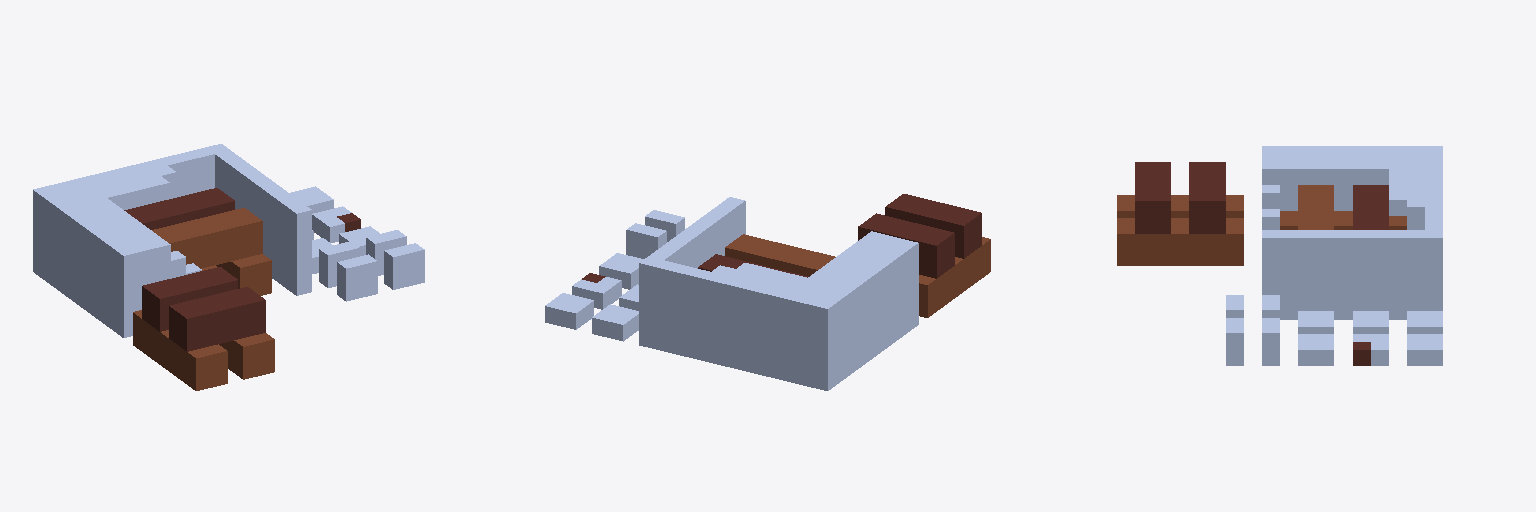
The picture shows the model from 3 angles: view 1: azimuth 30°, elevation 25°; view 2: azimuth 150°, elevation 25°; view 3: azimuth 270°, elevation 25°; orthographic projection.
Parts seen in each view (by area): view 1: object 1; view 2: object 1; view 3: object 1.
Boxes of the visible parts, x1=… form: object 1: x1=33, y1=144, x2=424, y2=390; object 1: x1=545, y1=194, x2=990, y2=390; object 1: x1=1117, y1=146, x2=1442, y2=365.
Bounding box in the file's own units: 1.8 × 0.5 × 1.8.
1 materials, 1 textured.